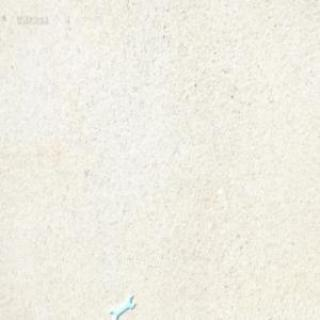Wrenchtrack_idkeyframe: (110, 292, 136, 318)
